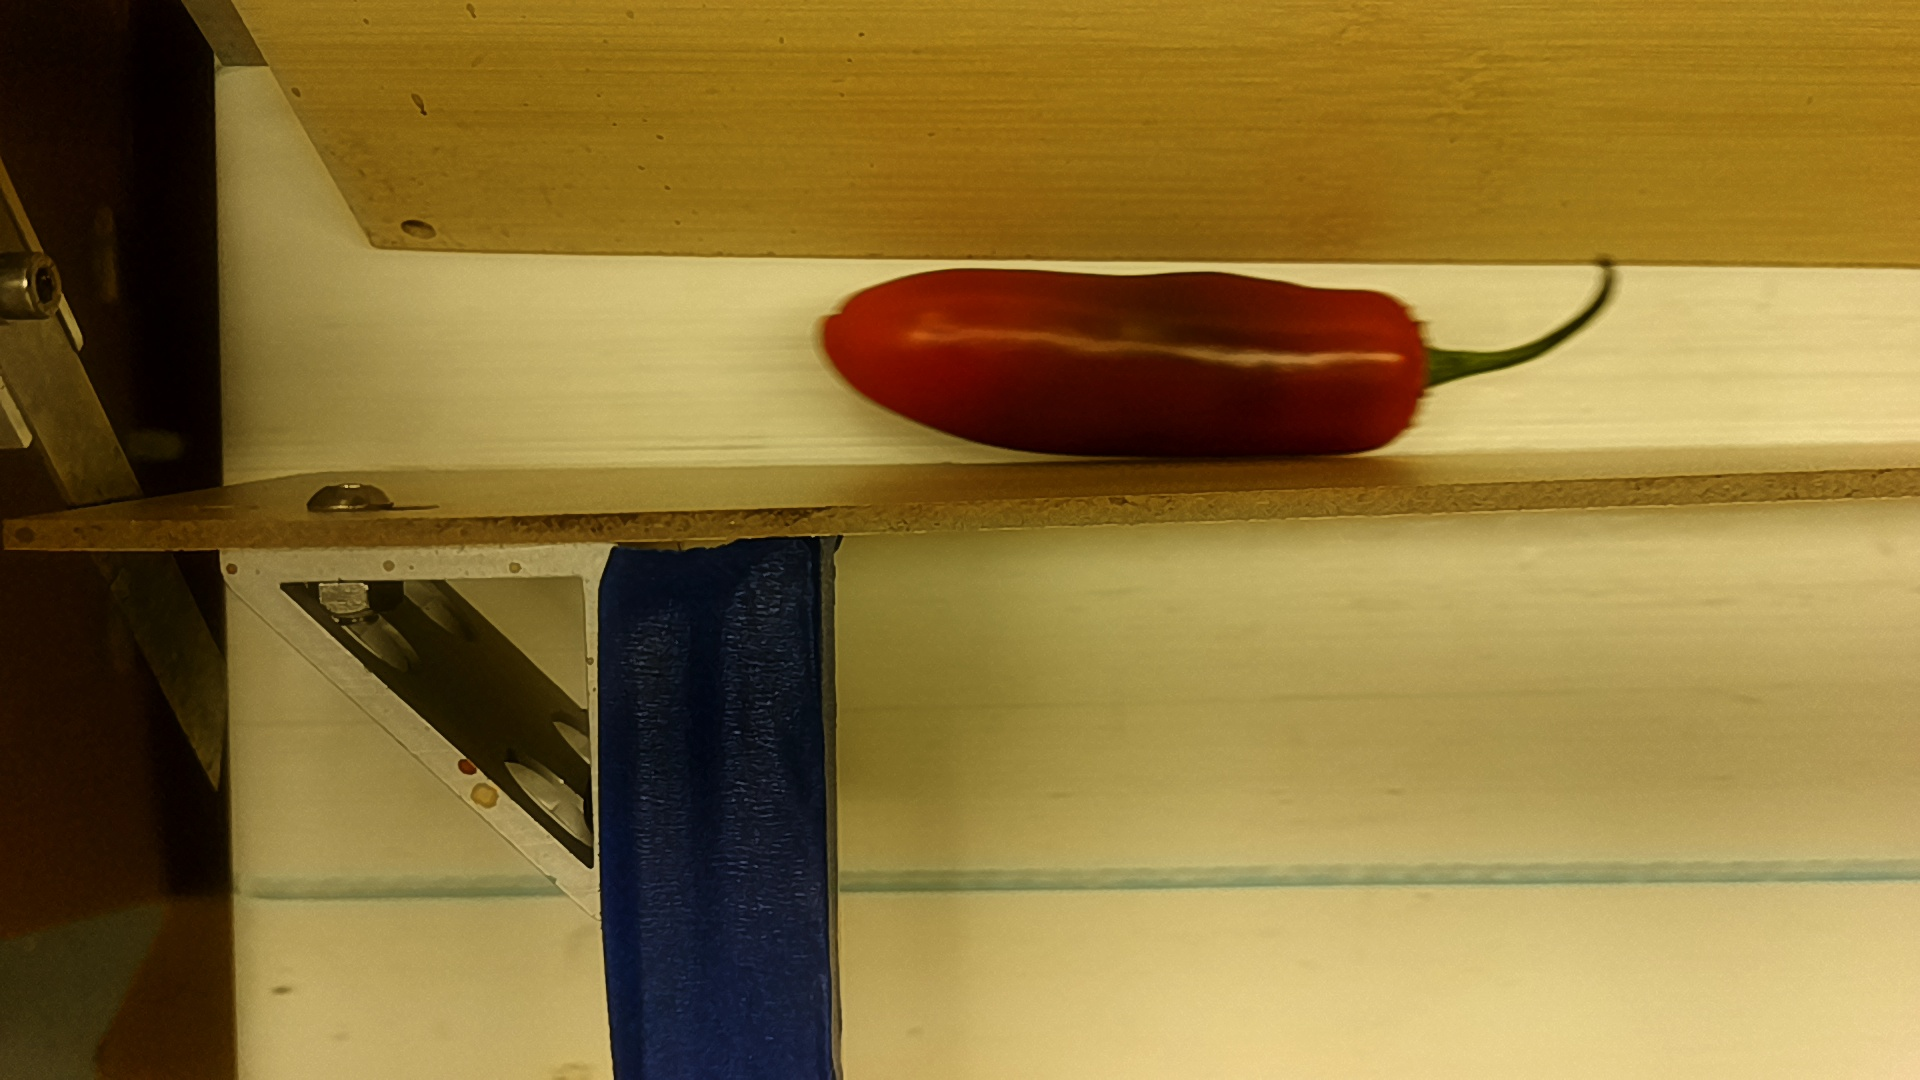Cut Point: (1370, 284, 1455, 462)
